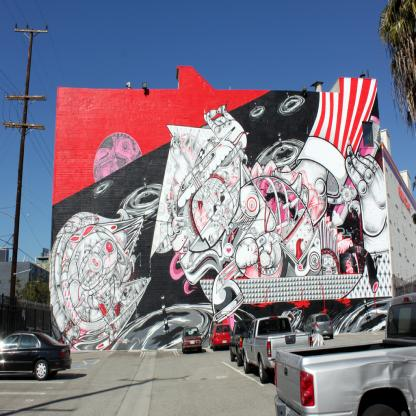Car: (275, 291, 416, 416), (240, 315, 317, 385), (5, 330, 70, 385), (229, 321, 255, 368), (302, 314, 335, 342), (210, 324, 235, 352), (182, 327, 206, 353)
